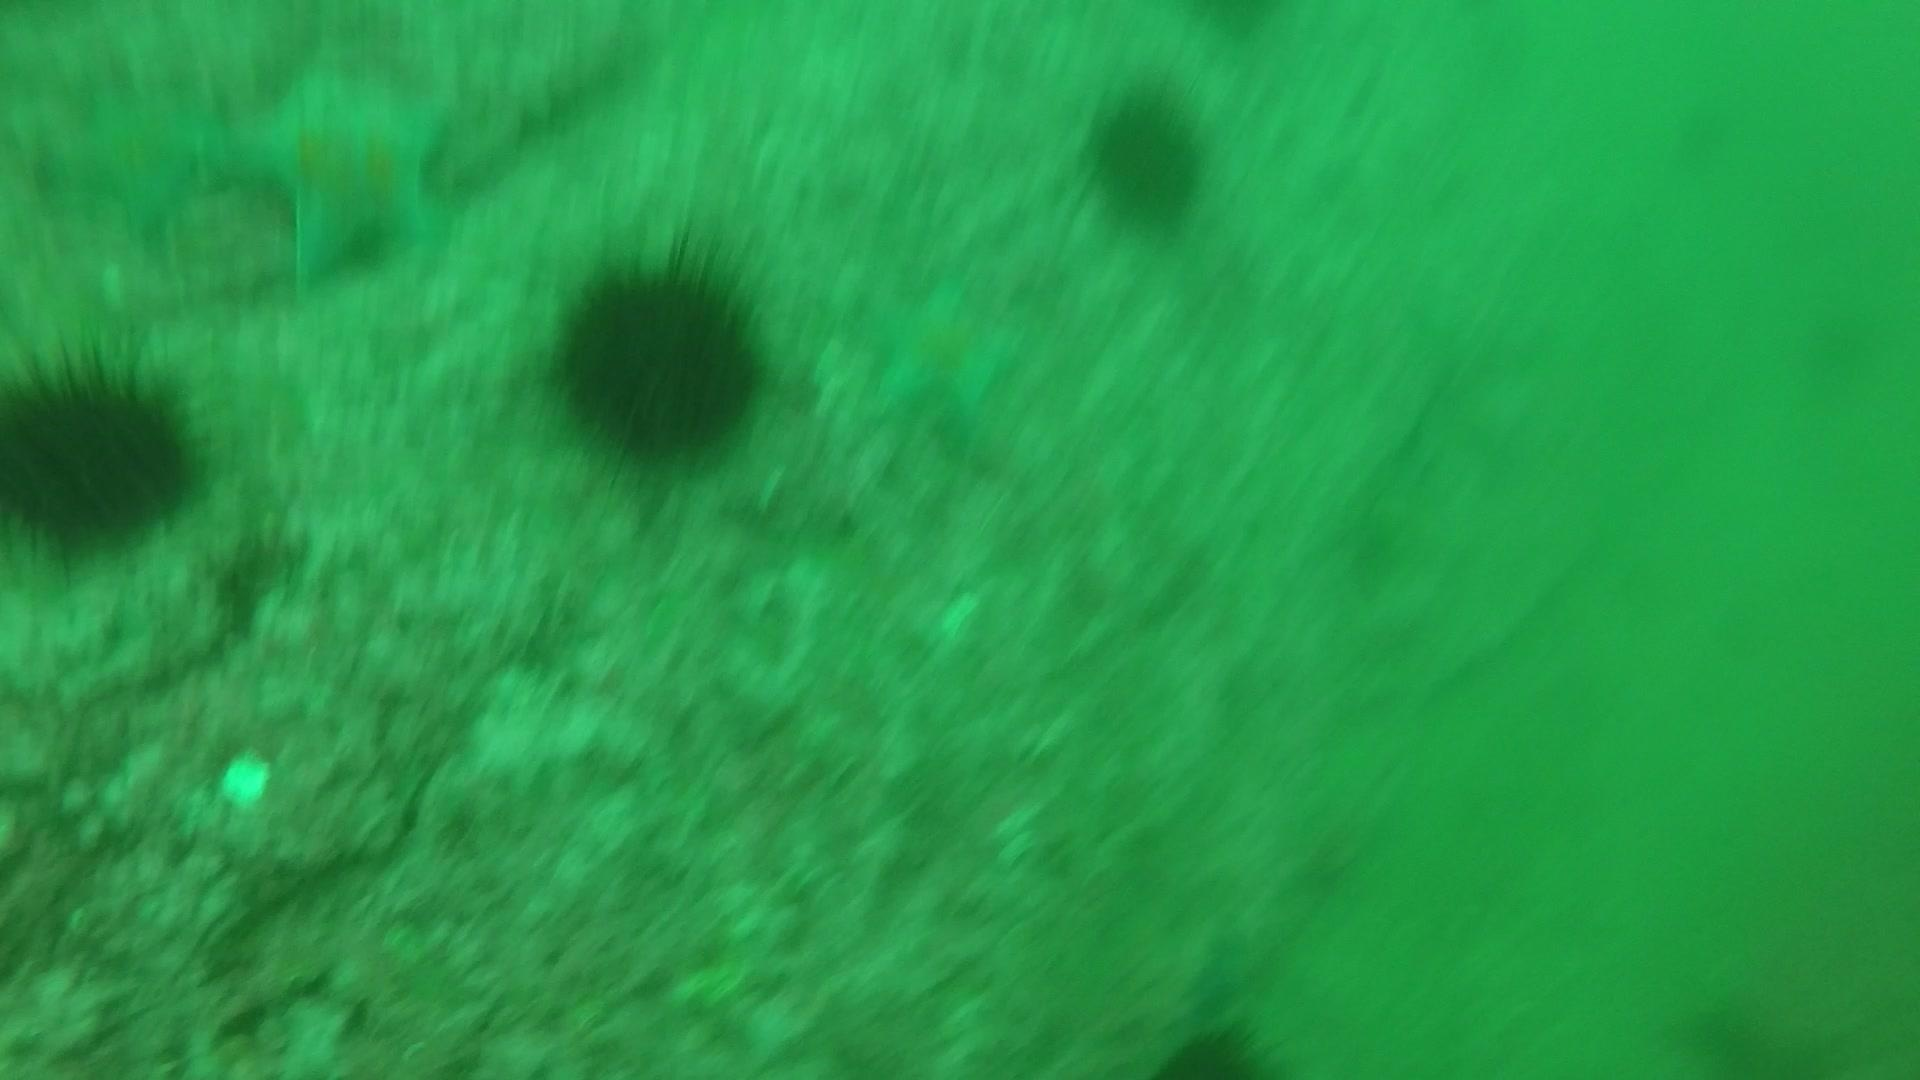echinus: (542, 236, 775, 469), (0, 338, 210, 558), (1080, 83, 1216, 233), (1150, 1017, 1278, 1077)
starfish: (218, 61, 460, 287), (51, 76, 220, 239), (862, 272, 1026, 436)
